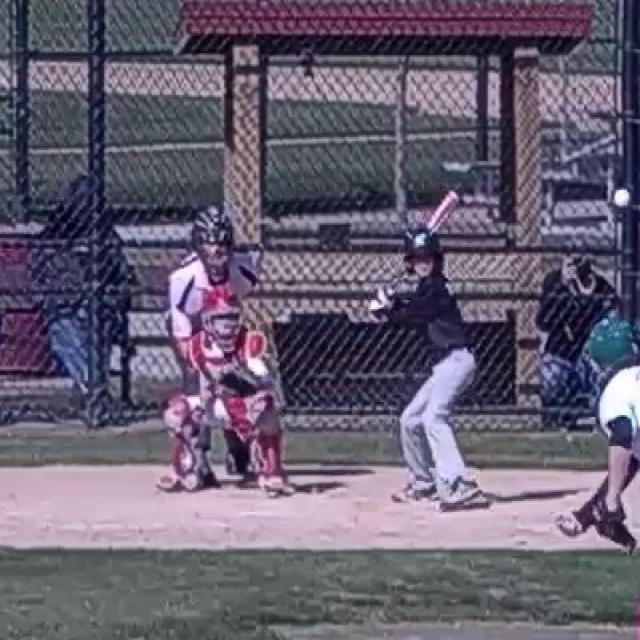baseball: (614, 190, 630, 206)
